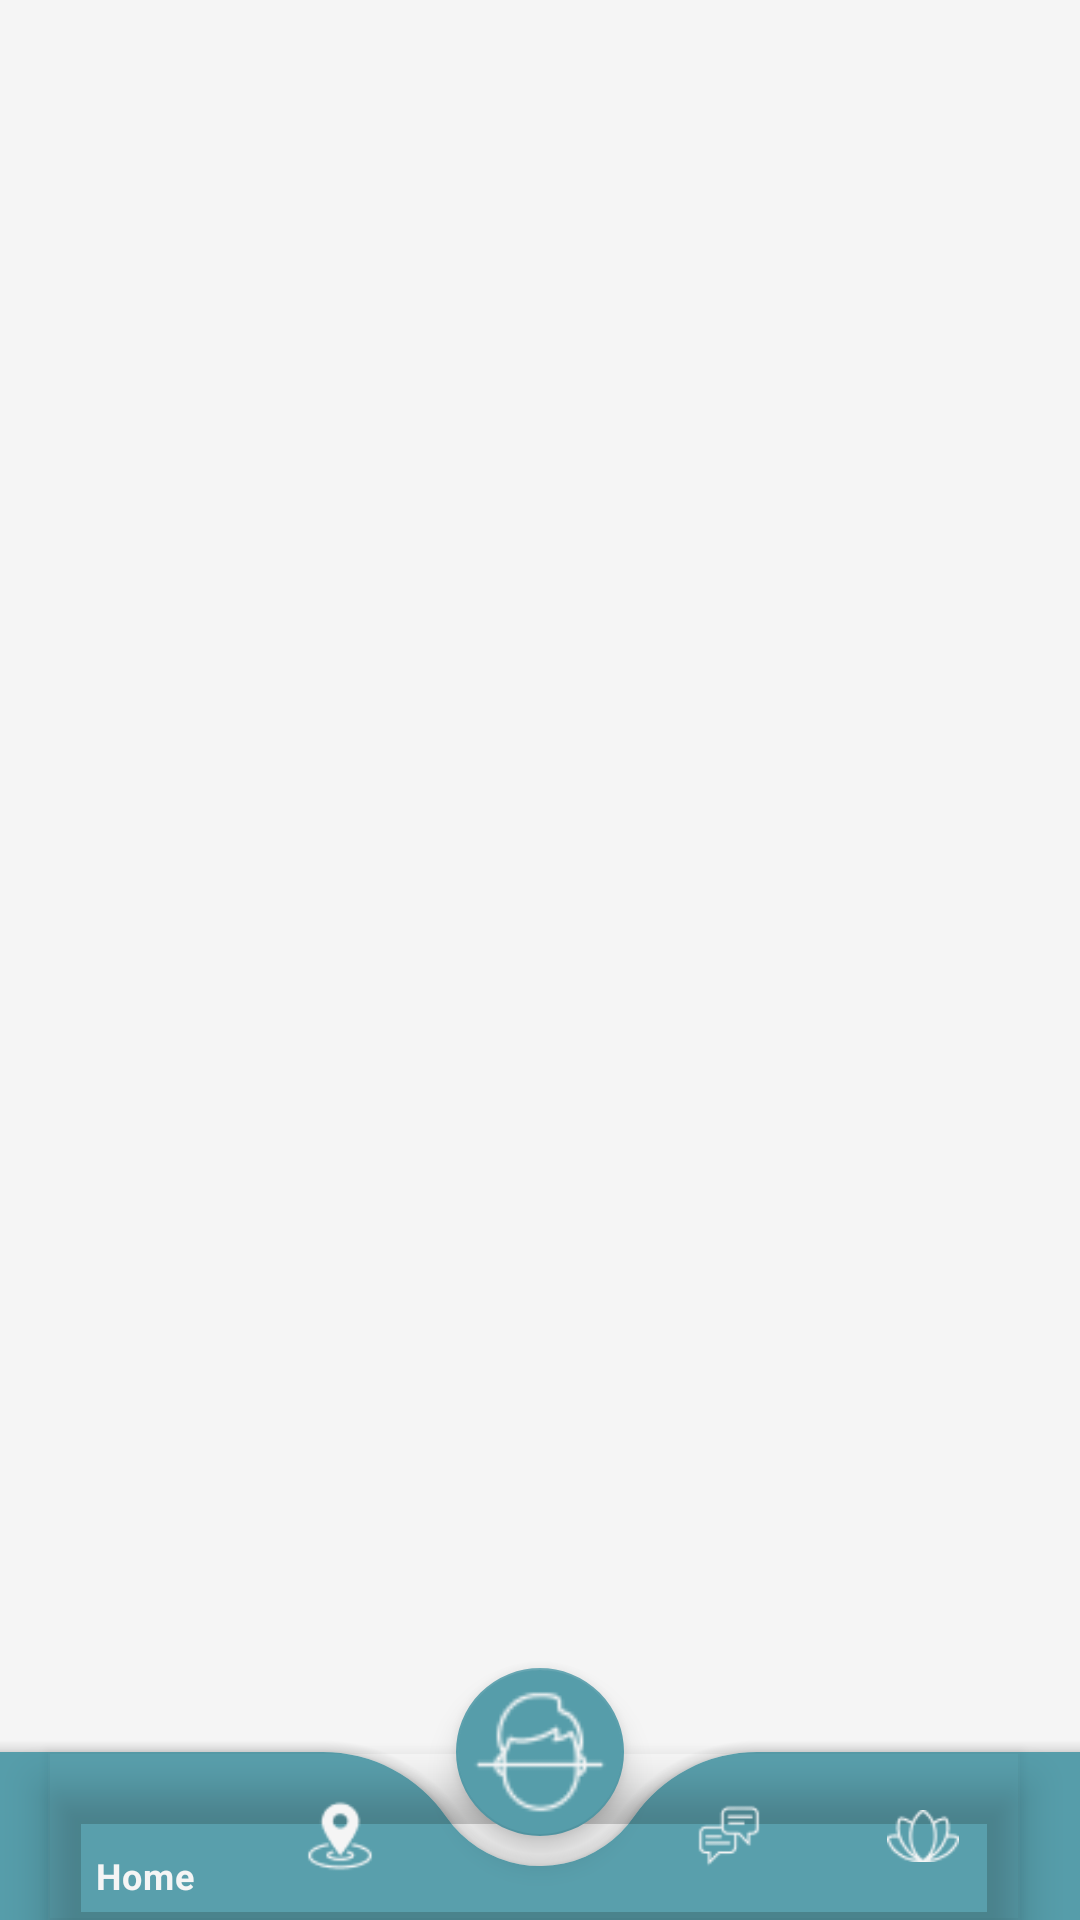

Point at icon controls on the screen. Image size 1080 × 1920, points as (x,y).
Pindai Wajahmu: (540,1752)
